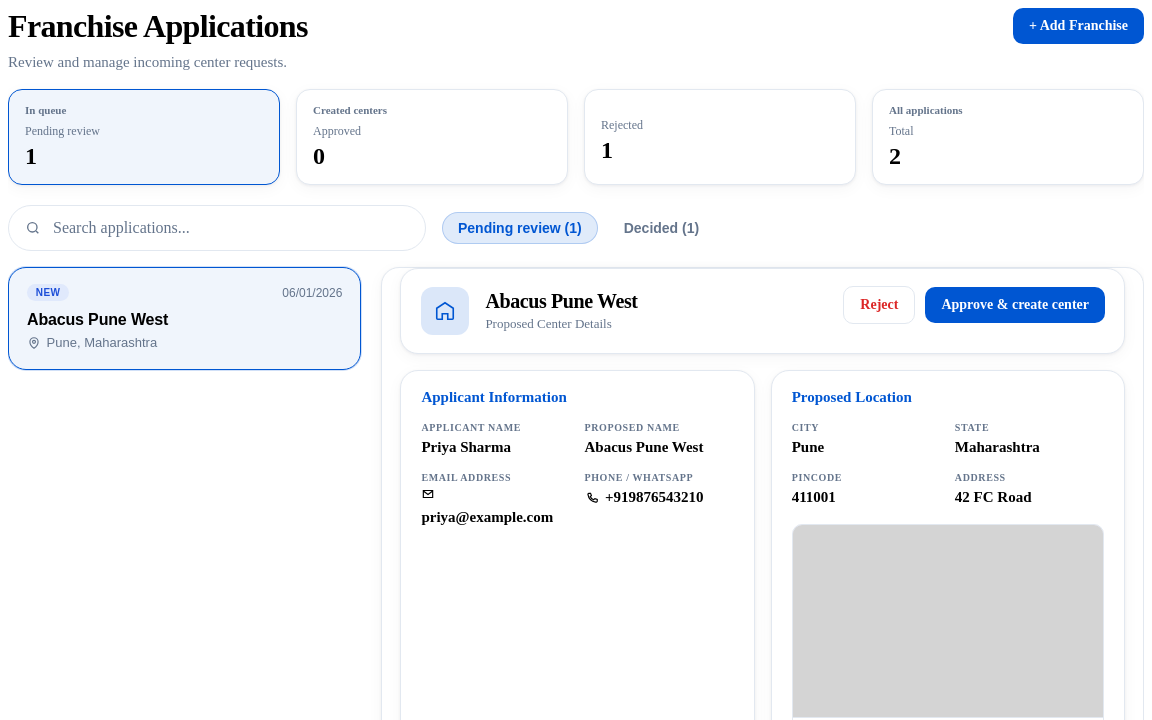
Scenario: FranchiseApplicationsPage › regression_search_shows_matches_without_switching_tabs_first
Expected: the tab "Pending review (1)" is shown, [442,212,598,244]
Expected: the text "EduQuest Academy" is not shown
In the search field with placeholder "Search applications...": (230, 228) [51,218,409,238], type "EduQuest"
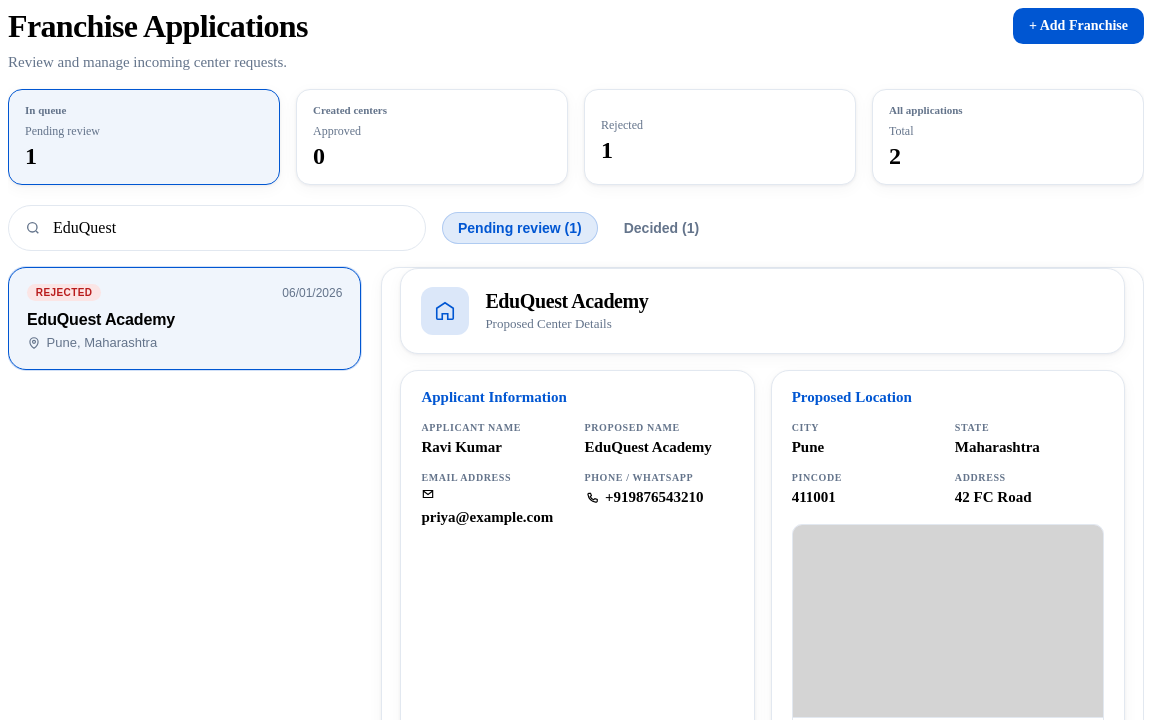
Expected: the button "REJECTED 06/01/2026 EduQuest Academy Pune, Maharashtra" is shown, [8,267,361,370]
Clear the search field with placeholder "Search applications...": (230, 228) [51,218,409,238]
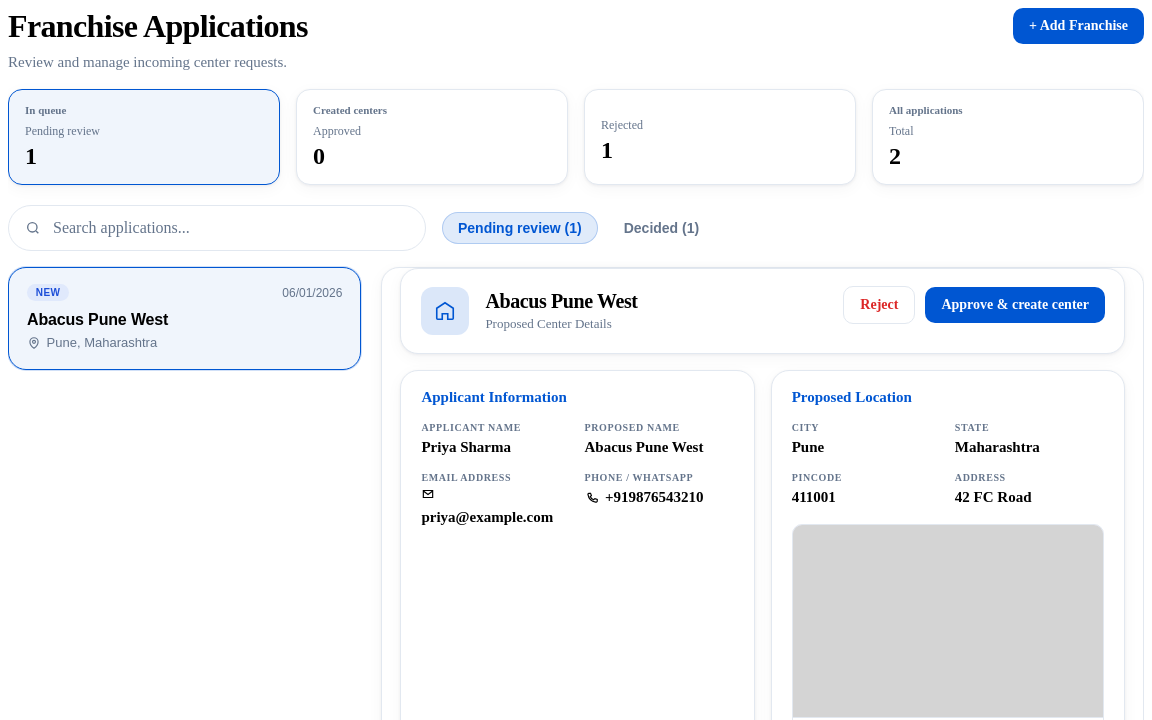
Expected: the button "EduQuest Academy" is gone
